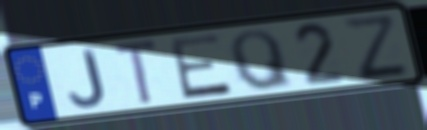2: (292, 21, 348, 87)
E: (166, 31, 236, 102)
J: (66, 47, 108, 110)
Q: (226, 27, 296, 93)
T: (110, 36, 162, 109)
Z: (338, 13, 413, 83)
